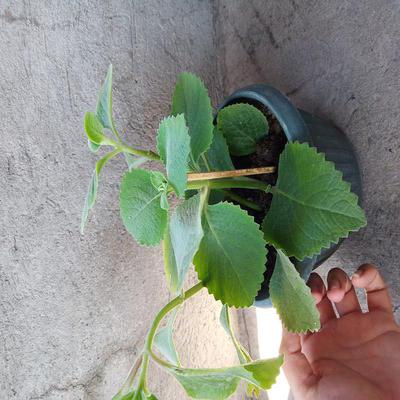Oregano: (81, 81, 276, 308)
